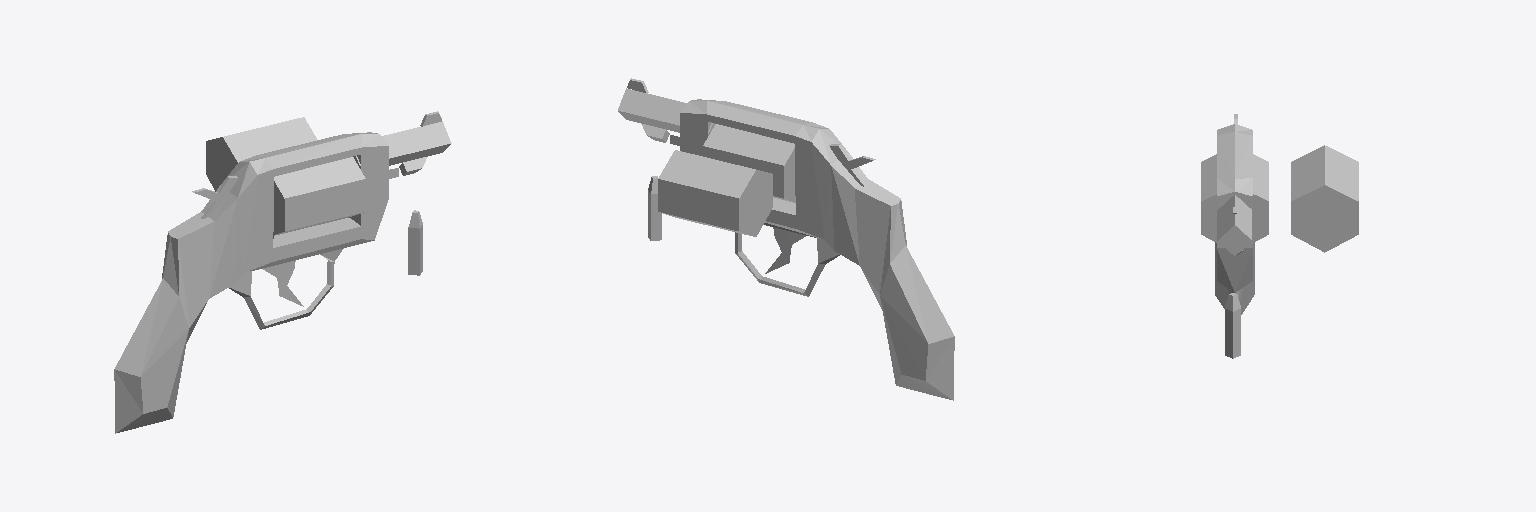
Rendered from StubNose38SpecialRevolver.obj.
3 renders of one model, left to right at view 1: azimuth 30°, elevation 25°; view 2: azimuth 150°, elevation 25°; view 3: azimuth 270°, elevation 25°, orthographic.
Parts seen in each view (by area): view 1: SnubNoseBody, SnubNoseCylinder, SnubNoseCylinderFull, SnubNoseTrigger&Hammer, Bullet.003; view 2: SnubNoseBody, SnubNoseCylinderFull, SnubNoseCylinder, SnubNoseTrigger&Hammer, Bullet.003; view 3: SnubNoseBody, SnubNoseCylinderFull, SnubNoseCylinder, Bullet.003.
Boxes of the visible parts, <box> form: SnubNoseBody: <box>114,111,451,433</box>; SnubNoseCylinder: <box>274,157,365,235</box>; SnubNoseCylinderFull: <box>206,117,316,191</box>; SnubNoseTrigger&Hammer: <box>192,176,303,306</box>; Bullet.003: <box>408,210,422,275</box>; SnubNoseBody: <box>618,78,954,400</box>; SnubNoseCylinderFull: <box>658,150,772,236</box>; SnubNoseCylinder: <box>703,124,795,202</box>; SnubNoseTrigger&Hammer: <box>765,144,875,273</box>; Bullet.003: <box>648,176,661,240</box>; SnubNoseBody: <box>1215,124,1254,314</box>; SnubNoseCylinderFull: <box>1291,145,1358,252</box>; SnubNoseCylinder: <box>1201,154,1268,242</box>; Bullet.003: <box>1225,293,1240,358</box>.
Bounding box in the file's own units: 1.92 × 1.36 × 0.7978.